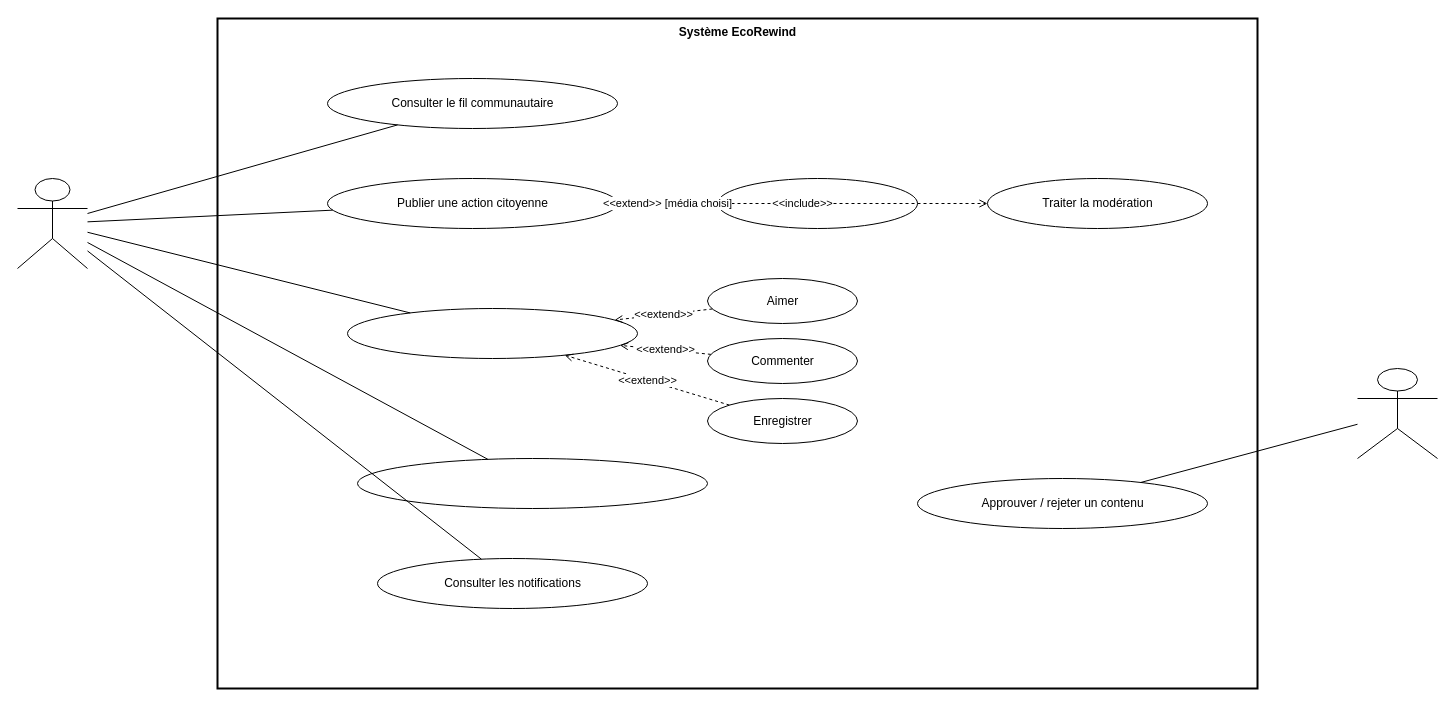
Image size: 1455x706. Some labels were removed from this diagram. Each missing label, with the box of its shape:
Administrateur: (1356, 368, 1438, 458)
Ajouter un média: (716, 178, 918, 228)
Citoyen: (16, 178, 88, 268)
Interagir avec une publication: (346, 308, 638, 358)
Soumettre un témoignage / proposition: (356, 458, 708, 508)
